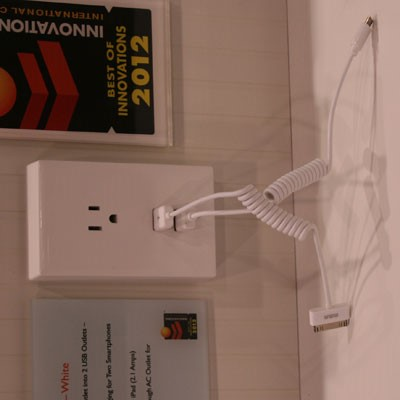outlet: (84, 202, 123, 233)
